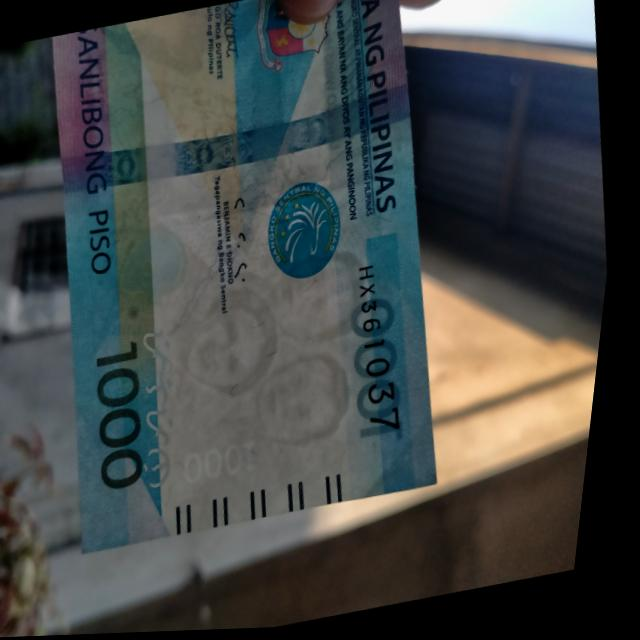security_thread: (59, 85, 419, 201)
see_through_mark: (129, 325, 203, 493)
serial_number: (350, 265, 427, 443)
value_watermark: (187, 433, 274, 492)
watermark: (157, 249, 399, 469)
